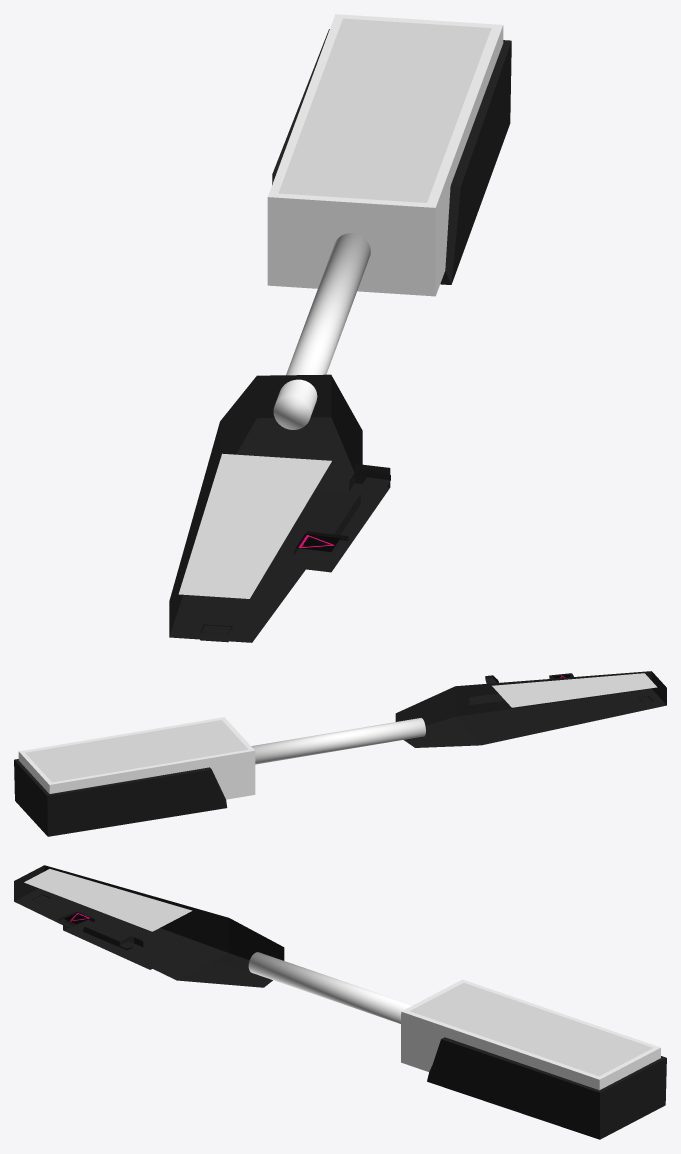
Rendered from tonearm.glb.
3 renders of one model, top to bottom at view 1: azimuth 30°, elevation 25°; view 2: azimuth 150°, elevation 25°; view 3: azimuth 270°, elevation 25°, orthographic. The views are drawn at different scales.
Parts seen in each view (by area): view 1: Cube.003; view 2: Cube.003; view 3: Cube.003.
Boxes of the visible parts, <box> form: Cube.003: <box>169,14,511,642</box>; Cube.003: <box>14,671,666,836</box>; Cube.003: <box>14,865,666,1139</box>.
Bounding box in the file's own units: 0.1805 × 0.0216 × 0.2147.
Materials: 5 (1 with a texture image).
